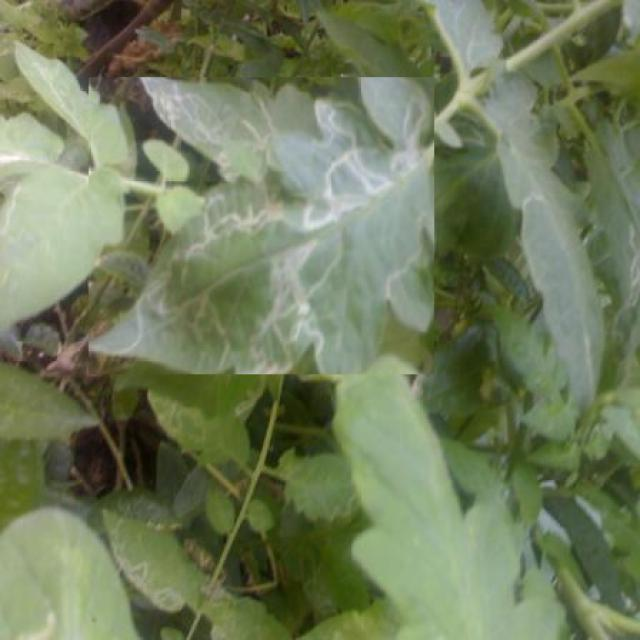Leaf Miner: (88, 78, 435, 375)
